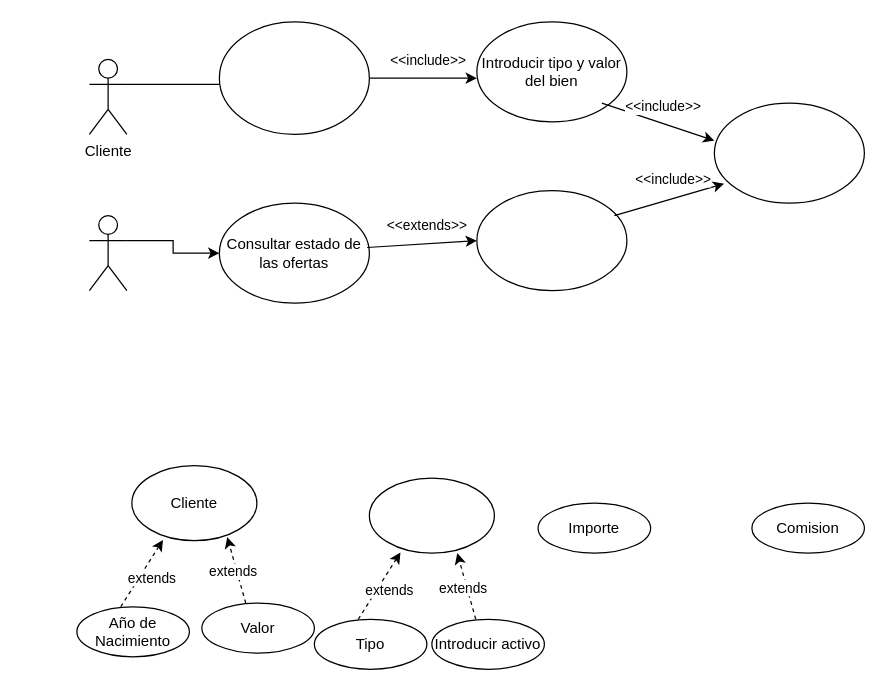
Some shapes in this 886 by 691 pixel diagram are drawn without their labels. The centre of each missing label's shape, as x and y in pixels:
Agente de la aseguradora: point 107,252
Añadir ofertas: point 551,240
Bien: point 431,515
Identificar mejor oferta: point 788,152
Registrar fecha de nacimiento y salario: point 293,77
